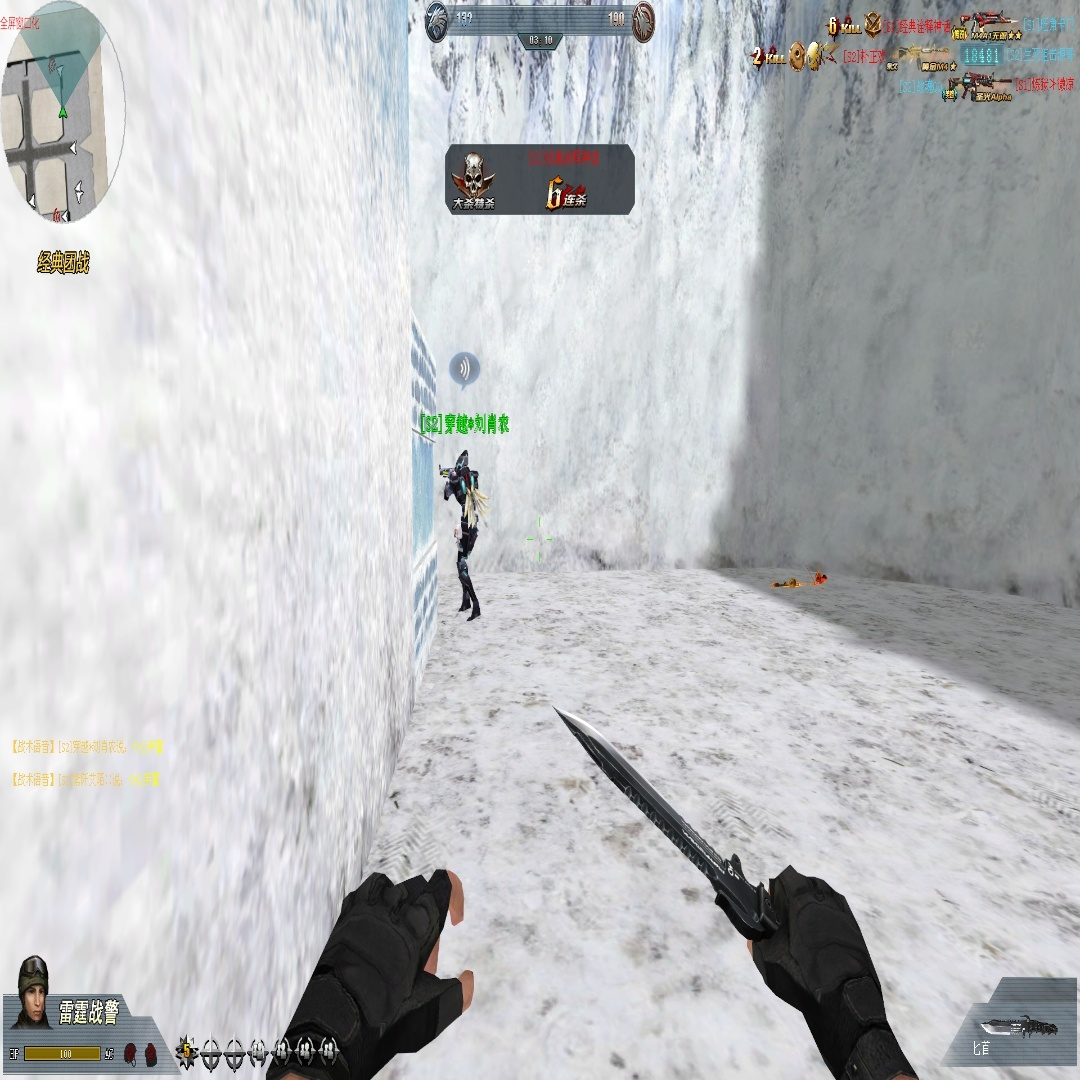ct: (441, 449, 488, 621)
